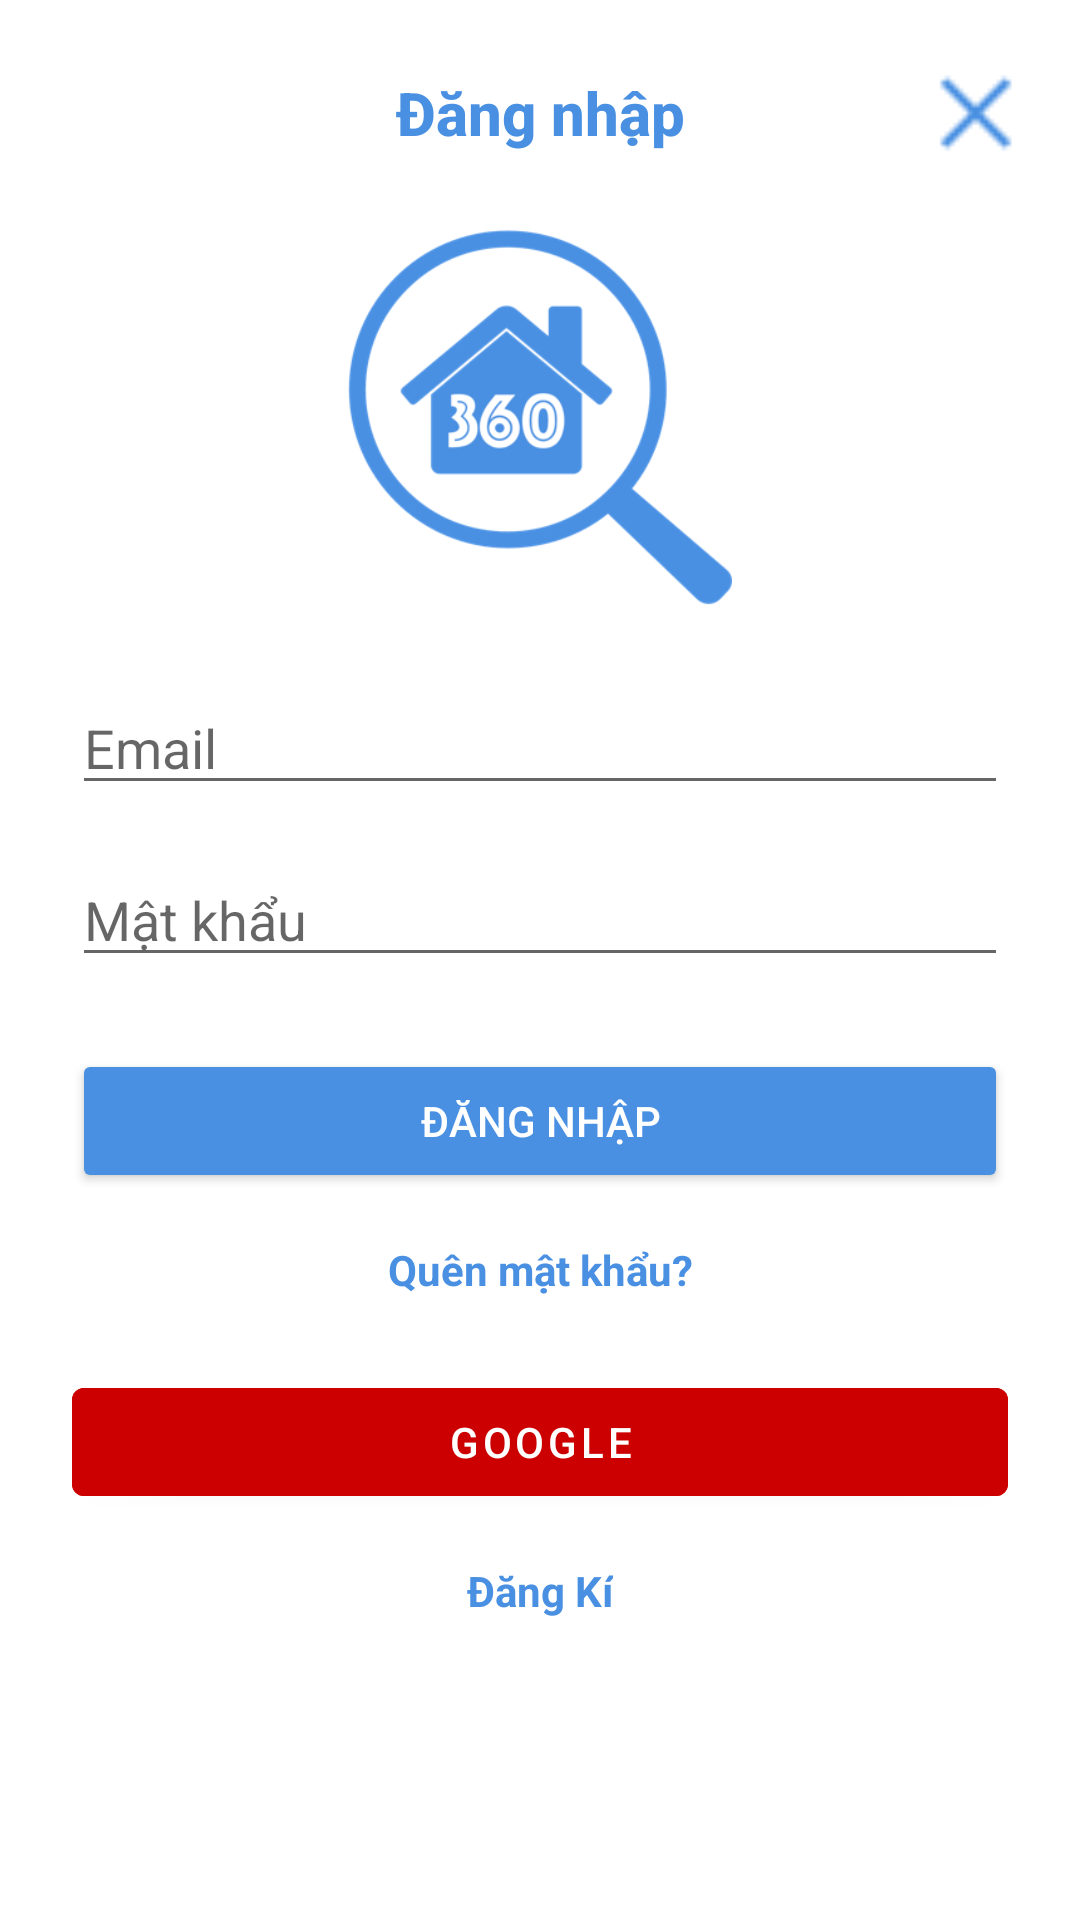

Icons on this 1080 × 1920 Android screen, each with the point to tap as point (x, y):
close: point (976, 113)
